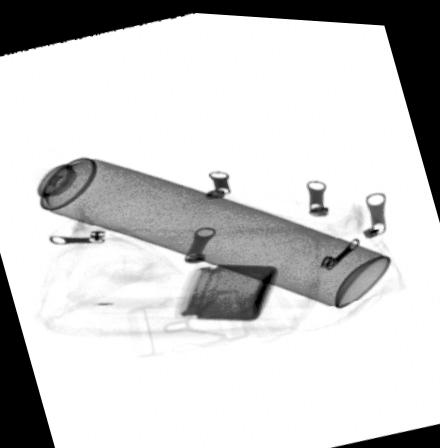Sprayer: (0, 144, 392, 305)
